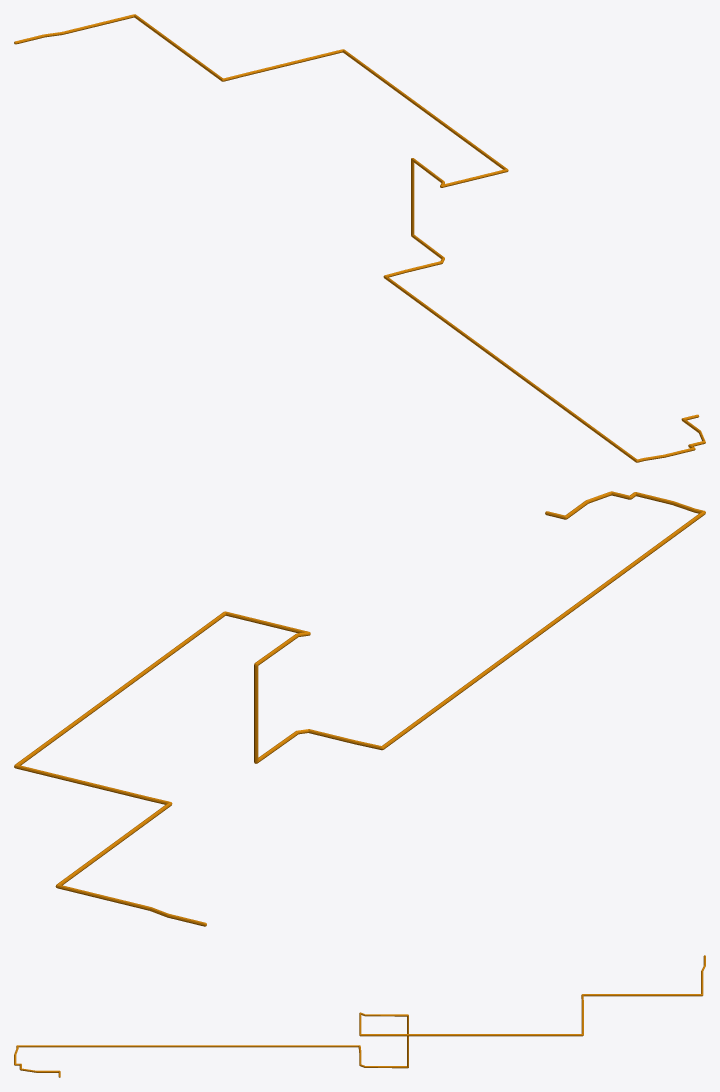
The picture shows the model from 3 angles, top to bottom: view 1: azimuth 30°, elevation 25°; view 2: azimuth 150°, elevation 25°; view 3: azimuth 270°, elevation 25°; orthographic projection. The views are drawn at different scales.
Size of the model in its own units: 1656 by 520 by 6068.
